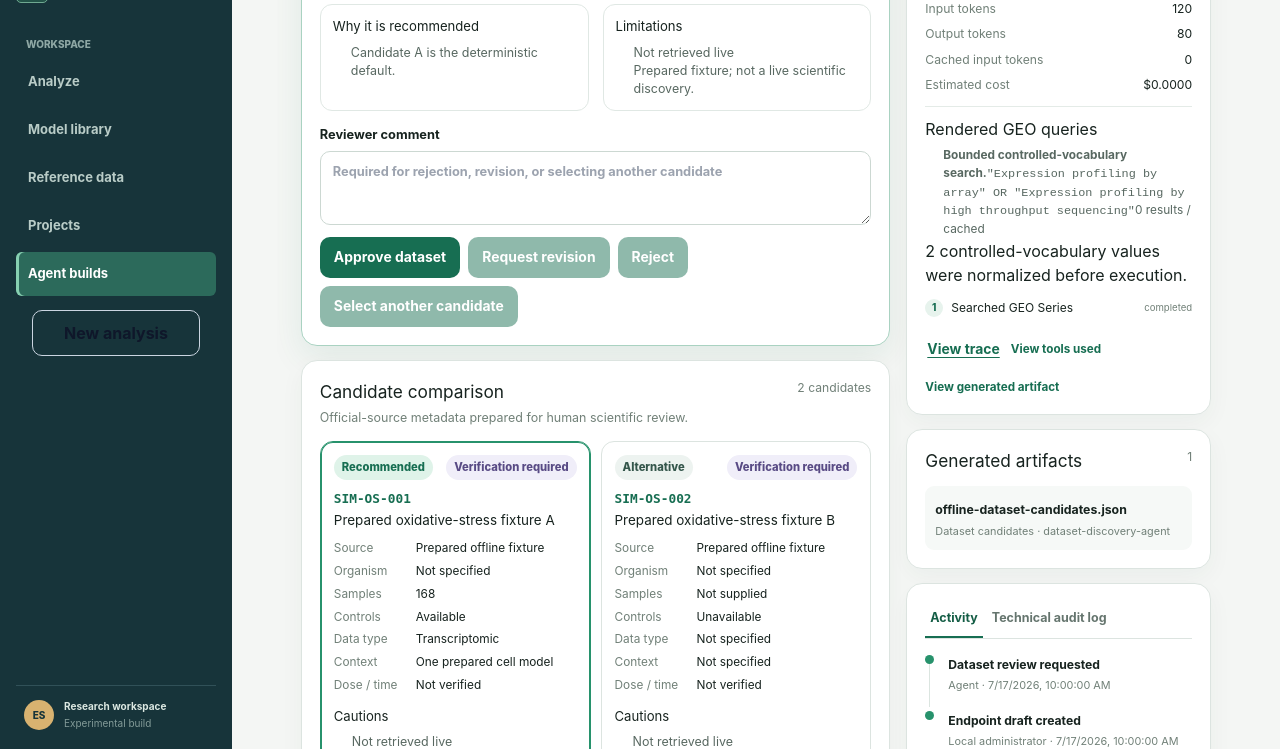
bounded-discovery live discovery presentation › presents controlled-vocabulary canonicalization as a compact note and detailed trace
(page scrolled)
Expected: the text "2 controlled-vocabulary values were normalized before execution." is shown, [925, 239, 1192, 287]
Click the button "View trace": (964, 349) [925, 329, 1002, 370]
(page scrolled)
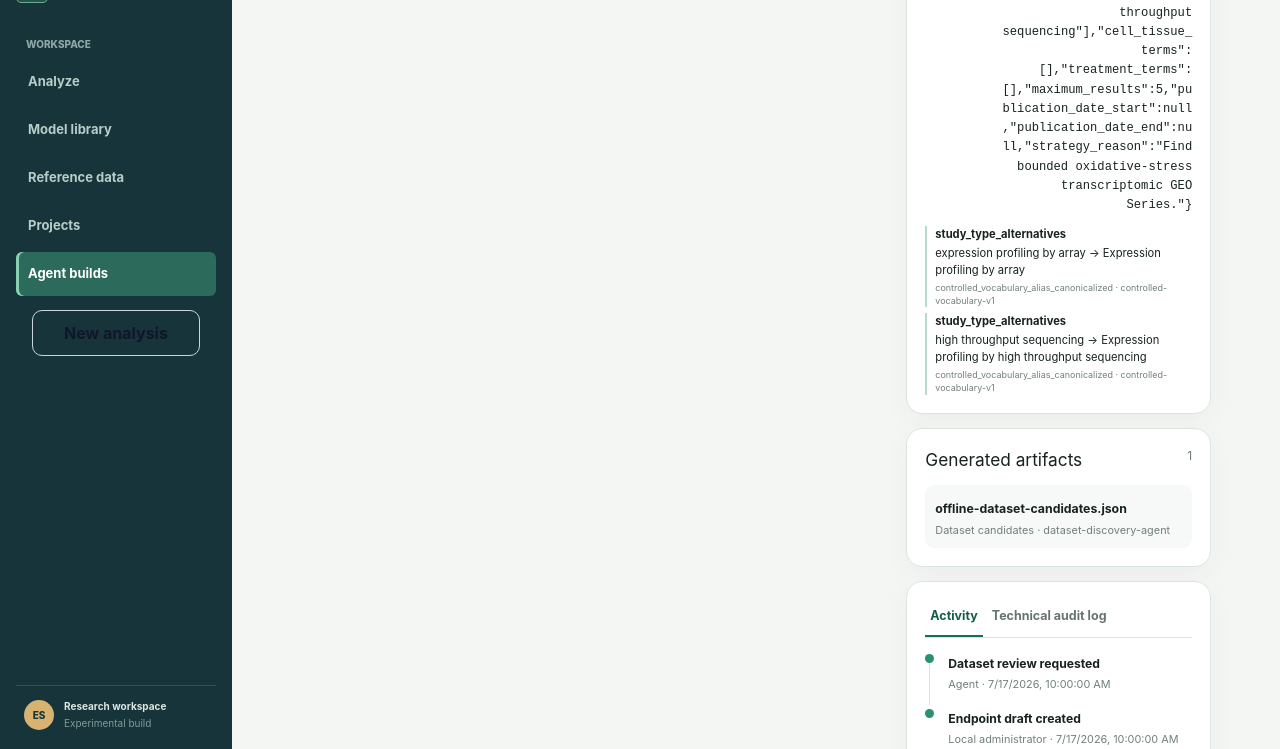
Expected: the text "controlled-vocabulary-v1" is shown 2 times, [935, 281, 1192, 307]; [935, 368, 1192, 395]
Expected: the text "high throughput sequencing → Expression profiling by high throughput sequencing" is shown, [935, 332, 1192, 366]
